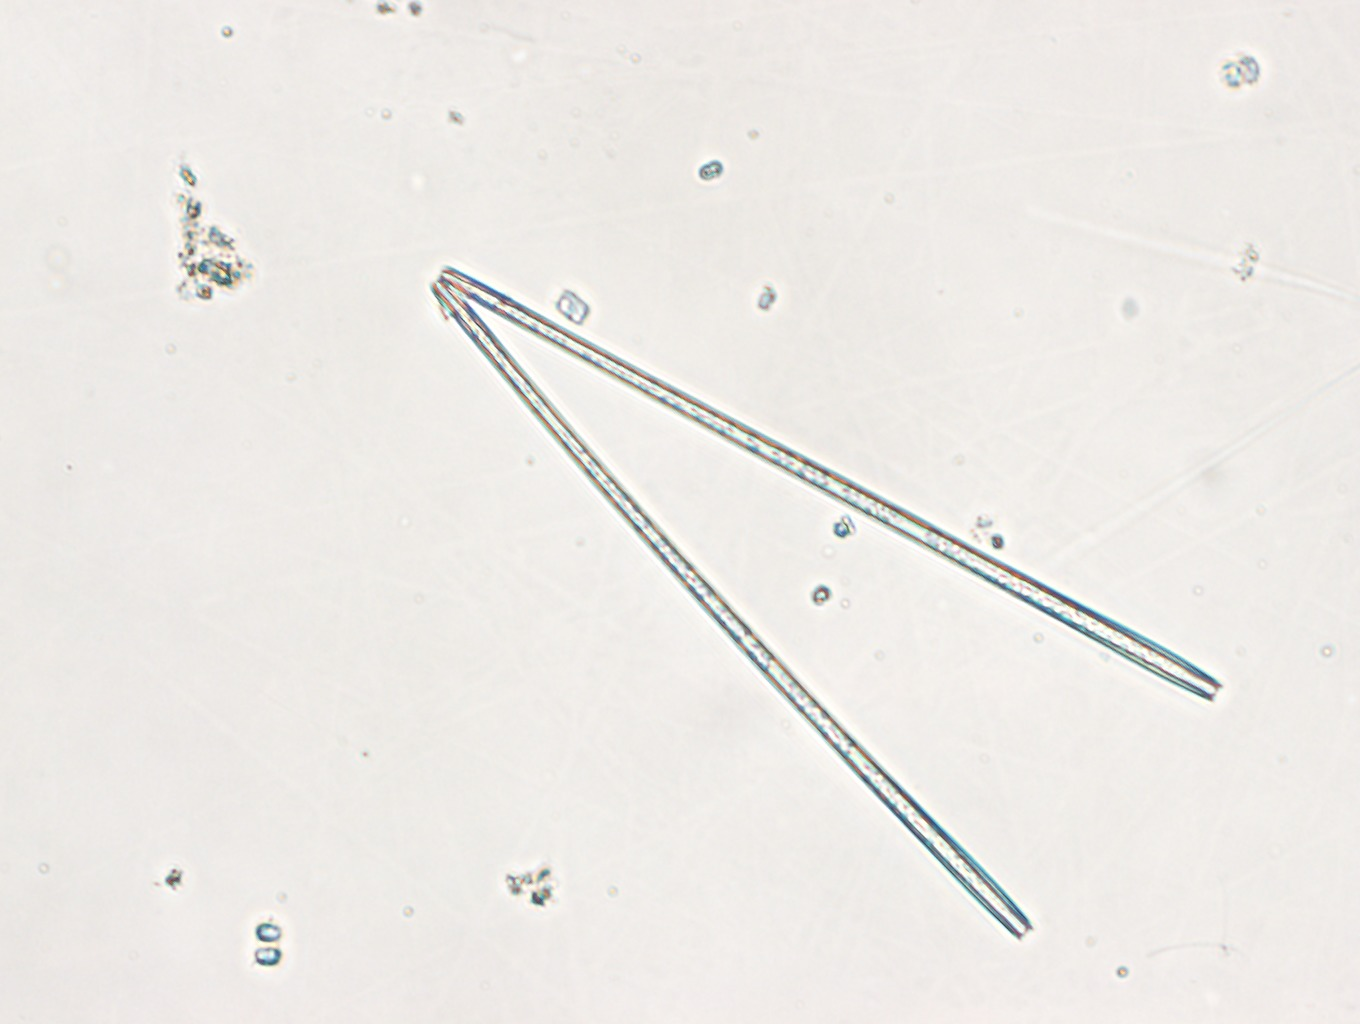thalassionema frauenfeldii: (429, 266, 1221, 945)
